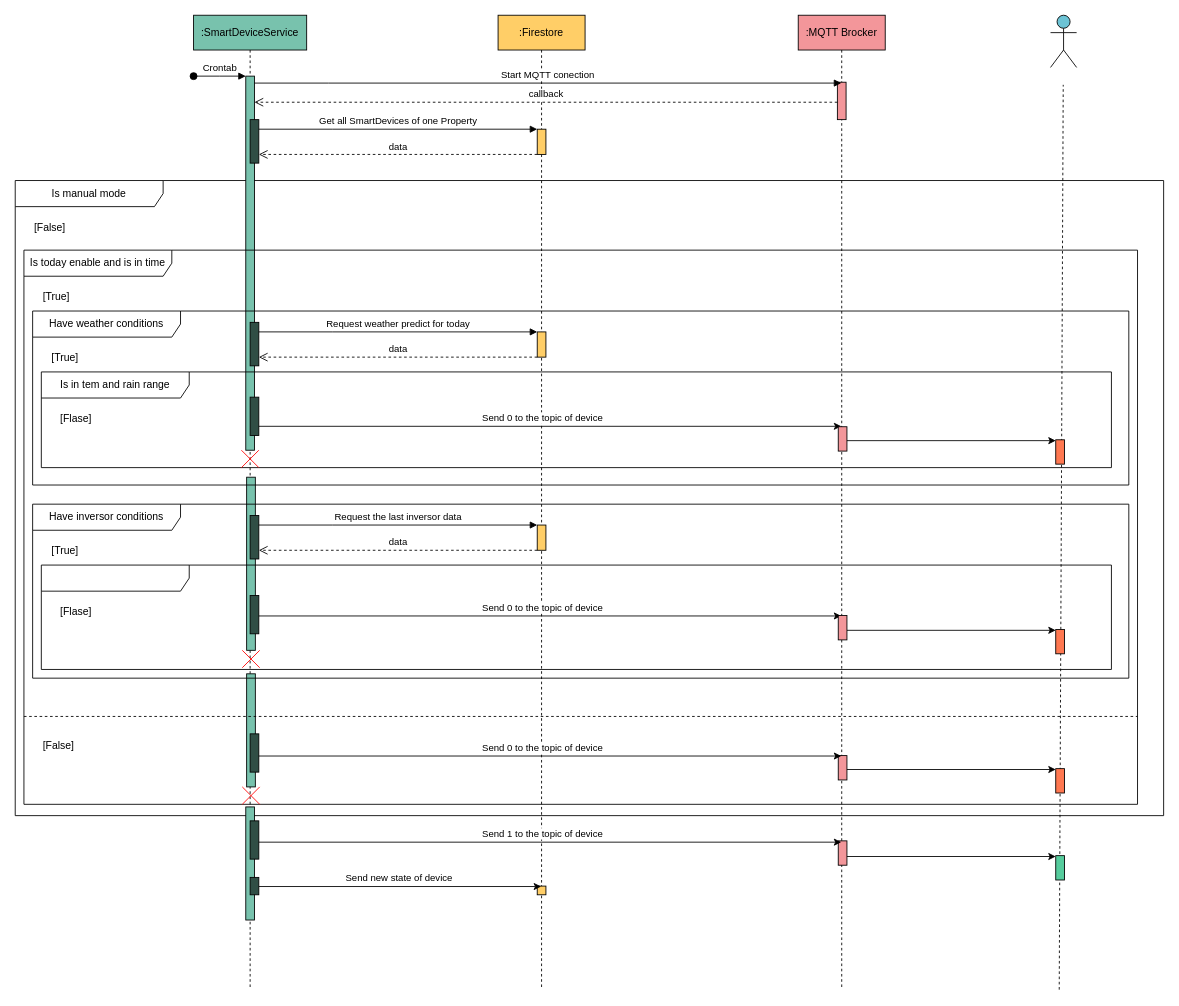
Some shapes in this 1179 by 1006 pixel diagram are drawn without their labels. The shapes that lost their labels are listed below. From the top down, each one's centre as x and y in pixels, then its label:
At [1063,40]: ":Arduino".
At [575,616]: "Is in battery, production and cosumption range".
